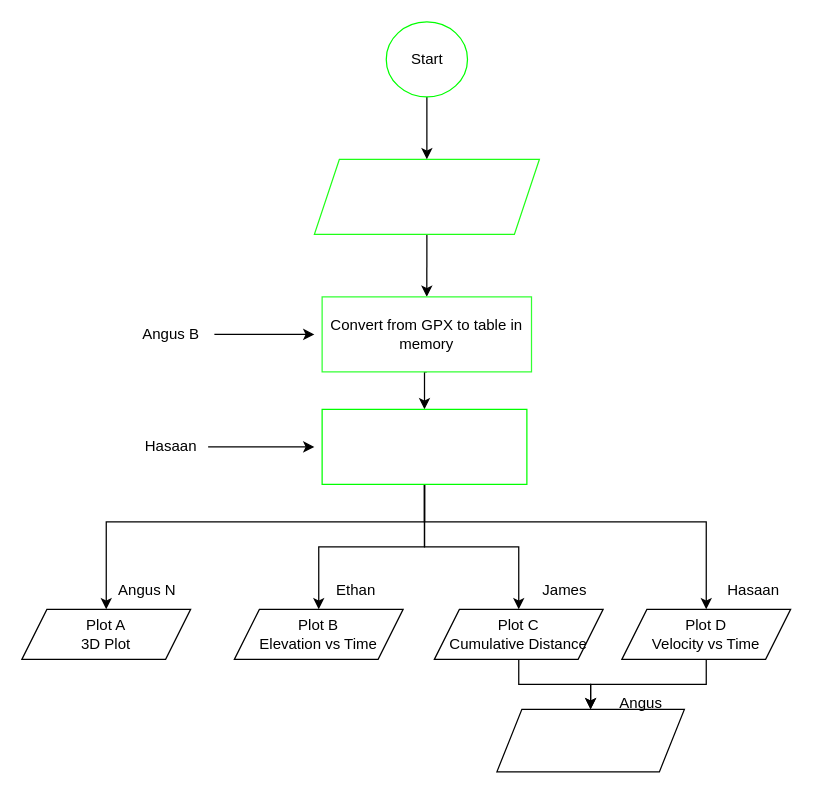
The diagram is 813 pixels wide and 794 high, and some of its shapes have lost their labels. The shapes that lost their labels are listed below. From the top down, each one's centre as x and y in pixels, then its label:
[426,196]: Get Filename from User
[424,446]: Convert GPS coordinate to Northings and Eastings
[590,740]: Plot E Velocity vs Cumulative Distance
